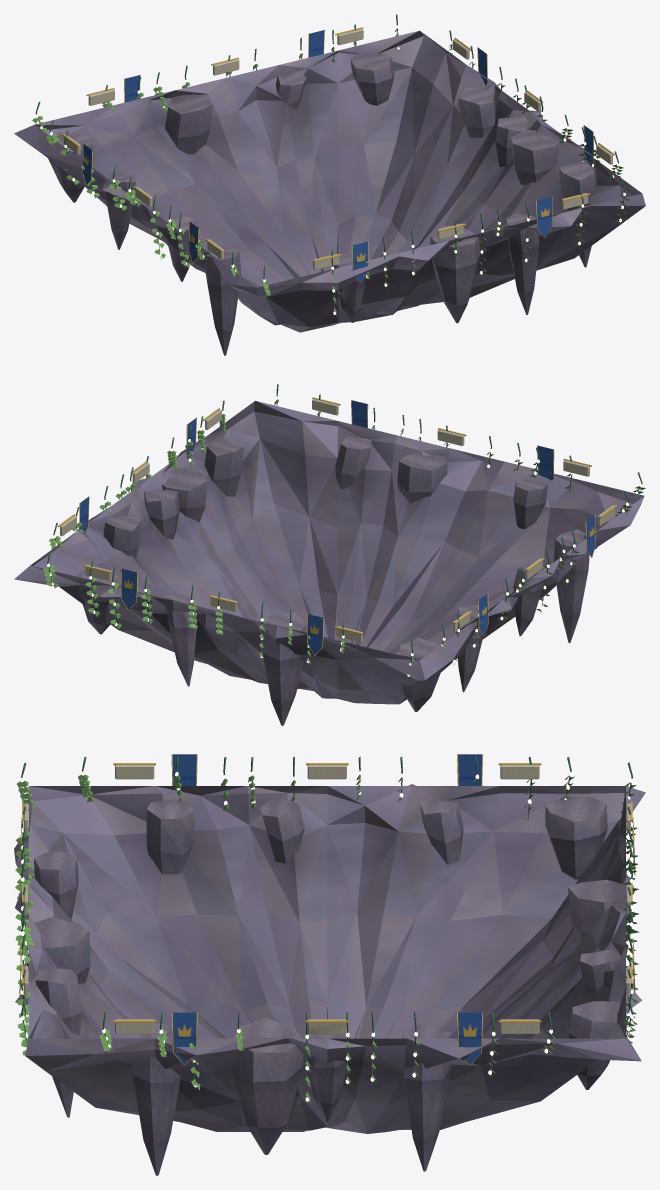
The model's file is crown-foundation.glb.
3 renders of one model, top to bottom at view 1: azimuth 30°, elevation 25°; view 2: azimuth 150°, elevation 25°; view 3: azimuth 270°, elevation 25°, orthographic. The views are drawn at different scales.
Visible parts, largest first — view 1: crown-foundation; view 2: crown-foundation; view 3: crown-foundation.
Part boxes in pixels (x1,y1,x2,y2): crown-foundation: (14, 14, 645, 355); crown-foundation: (14, 384, 645, 725); crown-foundation: (14, 754, 645, 1175).
Bounding box in the file's own units: 26.76 × 10.93 × 26.57.
7 materials, 7 textured.
